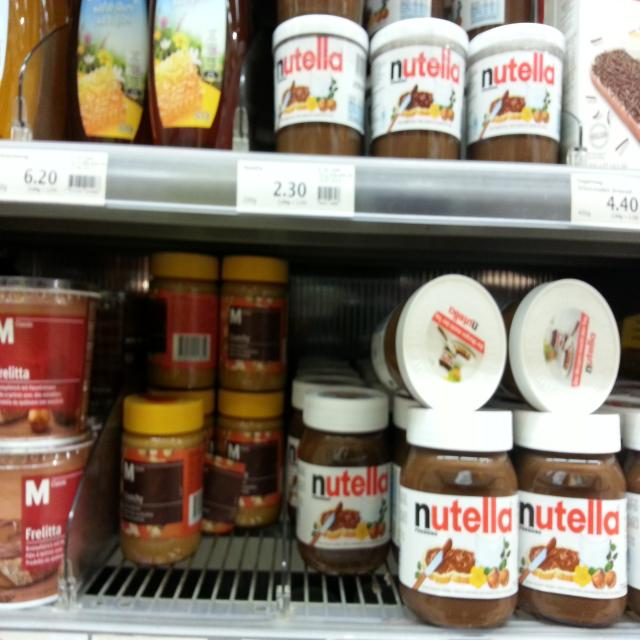Spreads: (400, 408, 521, 633), (513, 401, 629, 630), (366, 270, 508, 409), (0, 267, 109, 442), (294, 388, 394, 572), (0, 442, 92, 614), (508, 278, 623, 411), (468, 21, 568, 170), (148, 0, 244, 148), (120, 398, 203, 566), (271, 18, 369, 156), (372, 19, 463, 162), (70, 0, 151, 145), (145, 250, 223, 390), (221, 255, 294, 395), (219, 388, 282, 526)
